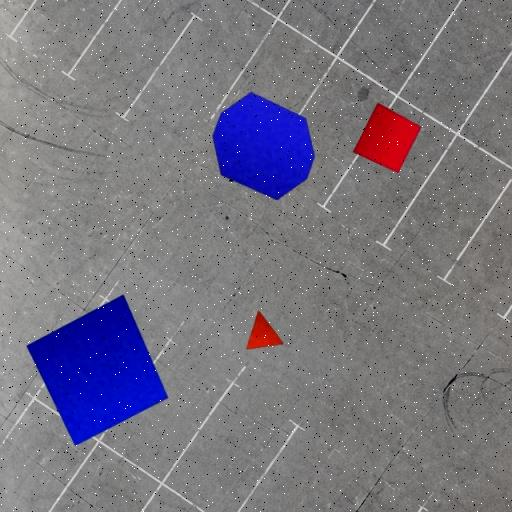BLUE_SQUARE: (26, 294, 170, 446)
RED_SQUARE: (352, 102, 422, 174)
